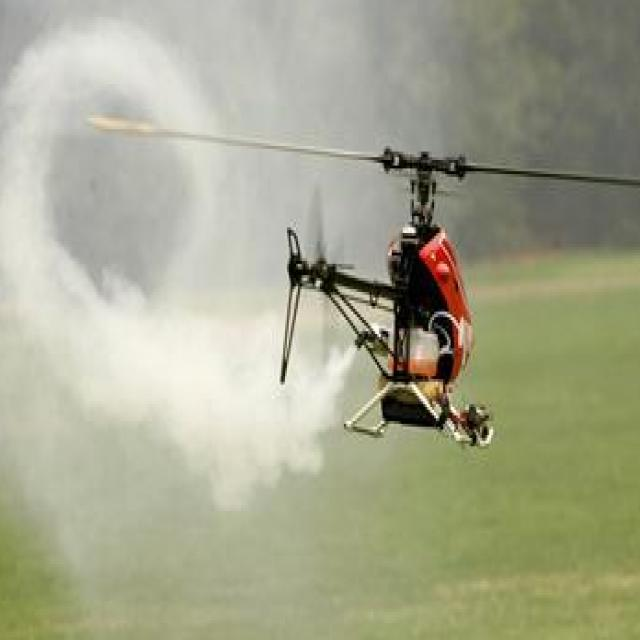helicopter: (87, 119, 640, 450)
